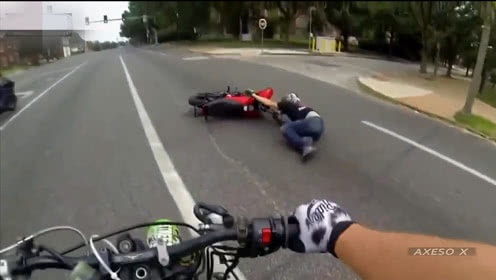falling: (247, 82, 331, 163)
